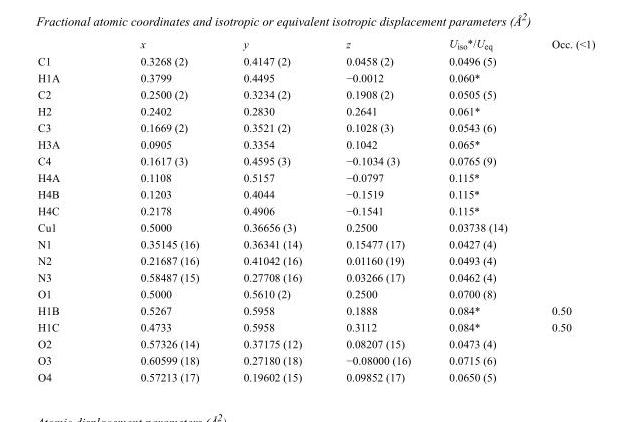table: (37, 36, 594, 382)
table column: (99, 36, 220, 382), (323, 36, 429, 382), (220, 36, 323, 382), (429, 36, 528, 382), (528, 36, 594, 382), (37, 36, 99, 382)
table column header: (37, 36, 594, 52)
table row: (37, 52, 594, 69), (37, 85, 594, 102), (37, 118, 594, 135), (37, 135, 594, 152), (37, 168, 594, 185), (37, 185, 594, 202), (37, 218, 594, 235), (37, 251, 594, 268), (37, 268, 594, 285), (37, 301, 594, 318), (37, 318, 594, 335), (37, 351, 594, 368), (37, 36, 594, 52), (37, 69, 594, 85), (37, 102, 594, 118), (37, 152, 594, 168), (37, 202, 594, 218), (37, 235, 594, 251), (37, 285, 594, 301), (37, 335, 594, 351), (37, 368, 594, 382)
